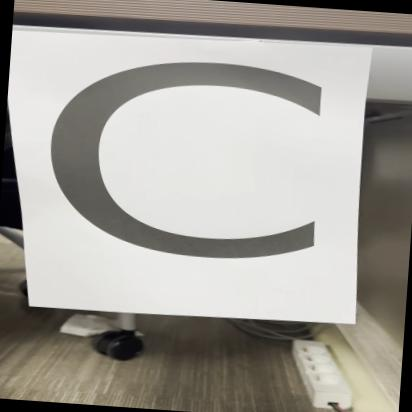seat: (4, 20, 388, 332)
